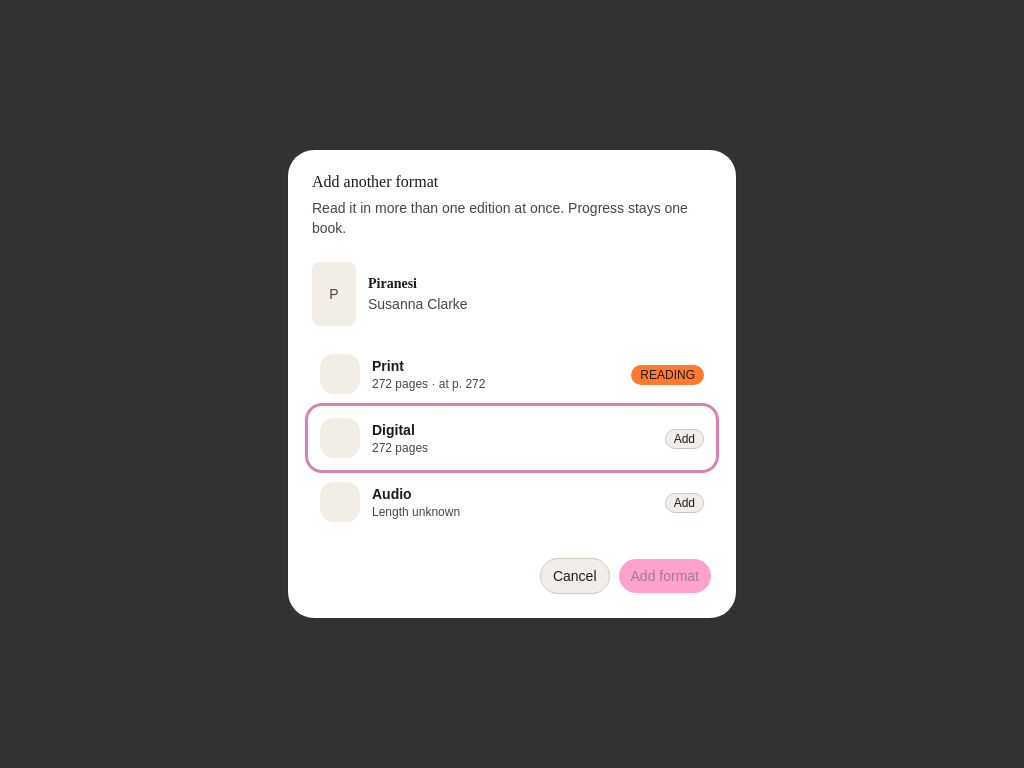
it: AddFormatSheet › asks for a length only once a format is picked
Click the button "Digital 272 pages Add". click: (340, 438)
box: left=308, top=406, right=716, bottom=470
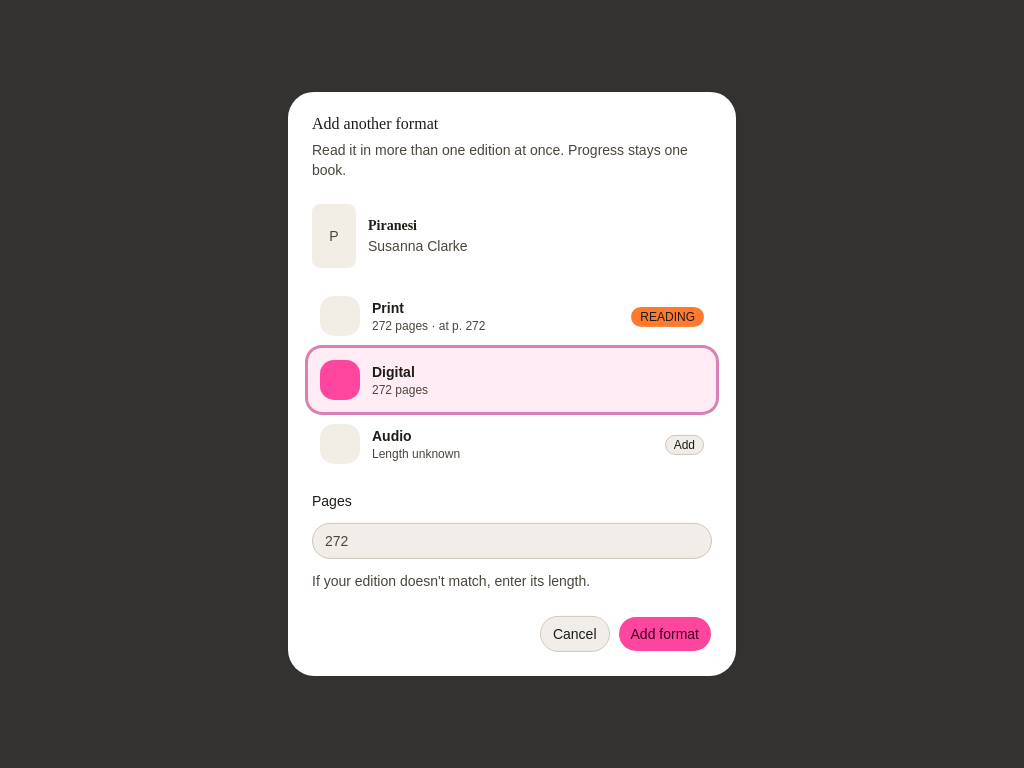
Check: the field labelled "Pages" is shown, box left=312, top=523, right=712, bottom=559
